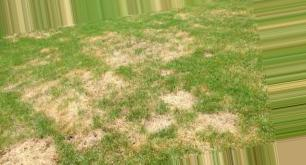patch: (45, 87, 79, 110), (25, 141, 53, 164), (161, 90, 191, 108), (140, 117, 166, 131), (108, 50, 136, 63), (208, 113, 230, 129), (74, 127, 94, 141), (91, 76, 113, 88), (143, 41, 165, 52)
